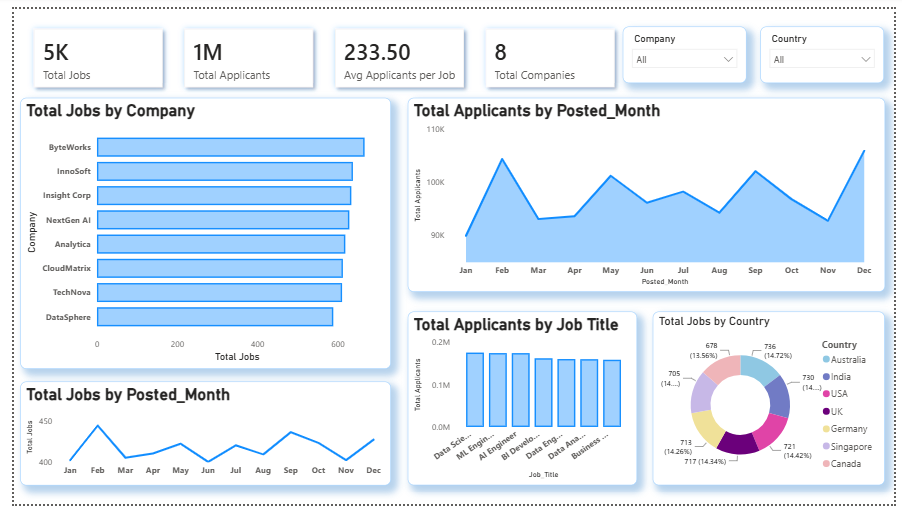

Layout of this report page (visuals, bound fields, positions):
{"tool":"powerbi","page":{"name":"Recruitment Analytics","canvas":[1280,720],"ordinal":3},"visuals":[{"type":"cardVisual","fields":{"Data":["JobData.Total Jobs","JobData.Total Applicants","JobData.Average Applicants per Job","JobData.Total Companies"]},"box":[0,0,905.9,143.1],"z":0},{"type":"clusteredBarChart","fields":{"Category":["JobData.Company"],"Y":["JobData.Total Jobs"]},"box":[9.8,129.4,539.2,394.1],"z":1000},{"type":"donutChart","fields":{"Category":["JobData.Country"],"Y":["JobData.Total Jobs"]},"box":[929.4,439.2,337.3,252.9],"z":2000},{"type":"clusteredColumnChart","title":"Total Applicants by Job Title","fields":{"Category":["JobData.Job_Title"],"Y":["JobData.Total Applicants"]},"box":[572.5,439.2,333.3,252.9],"z":3000},{"type":"lineChart","fields":{"Y":["JobData.Total Jobs"],"Category":["MonthTable.Posted_Month"]},"box":[9.8,541.2,539.2,151],"z":4000},{"type":"areaChart","fields":{"Category":["MonthTable.Posted_Month"],"Y":["JobData.Total Applicants"]},"box":[572.5,129.4,694.1,282.4],"z":5000},{"type":"slicer","fields":{"Values":["JobData.Country"]},"box":[1086.3,25.5,180.4,82.4],"z":6000},{"type":"slicer","fields":{"Values":["JobData.Company"]},"box":[886.3,25.5,180.4,82.4],"z":7000}]}

Visuals, with their boxes in screenshot pixels (x1, y1, x2, y2), scaled from the page's 1280x720 canvas onto the 902x512 screenshot:
cardVisual - JobData.Total Jobs x JobData.Total Applicants: detection(0, 0, 638, 102)
clusteredBarChart - JobData.Company x JobData.Total Jobs: detection(7, 92, 387, 372)
donutChart - JobData.Country x JobData.Total Jobs: detection(655, 312, 893, 492)
"Total Applicants by Job Title" clusteredColumnChart: detection(403, 312, 638, 492)
lineChart - JobData.Total Jobs x MonthTable.Posted_Month: detection(7, 385, 387, 492)
areaChart - MonthTable.Posted_Month x JobData.Total Applicants: detection(403, 92, 893, 293)
slicer - JobData.Country: detection(766, 18, 893, 77)
slicer - JobData.Company: detection(625, 18, 752, 77)
